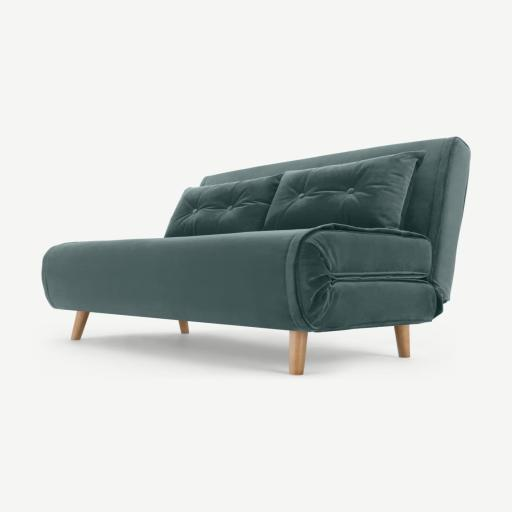back_cushion: (166, 152, 424, 236)
legs: (289, 331, 307, 375), (72, 311, 89, 339), (395, 326, 409, 357), (178, 320, 188, 333)
seat_cushion: (42, 225, 443, 332)
two-seater: (0, 0, 511, 512)
